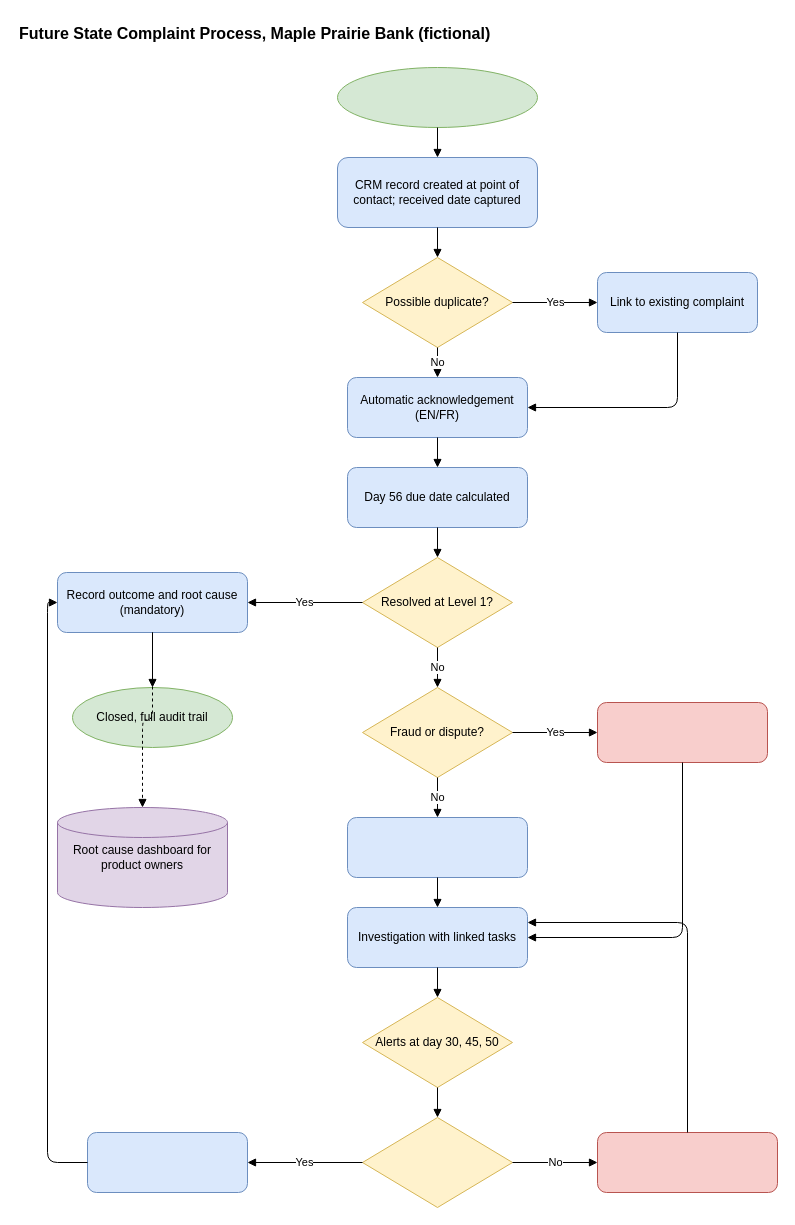
This 795x1225 diagram has some shape labels left out. The shapes that lost their labels are listed below. From the top down, each one's centre as x and y in pixels, then its label:
the point at 437,97: Customer complains in any channel
the point at 682,732: Fraud and Disputes specialist queue
the point at 437,847: Complaints Office queue
the point at 167,1162: Final response sent
the point at 437,1162: Resolved before day 56?
the point at 687,1162: Delay notice with reasons and OBSI info
